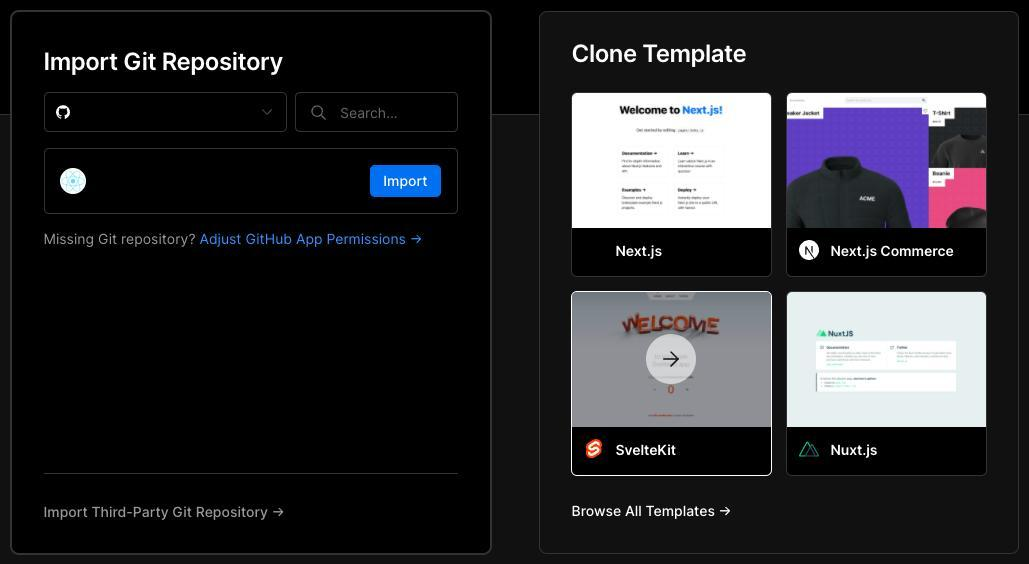button: (370, 166, 445, 199)
dropdown: (46, 94, 285, 134)
input: (45, 150, 461, 214), (294, 94, 460, 134)
label: (43, 53, 287, 78), (41, 500, 292, 524), (573, 44, 753, 67), (572, 501, 738, 525), (828, 244, 965, 261), (613, 434, 685, 457), (832, 440, 887, 463), (616, 243, 667, 263)
